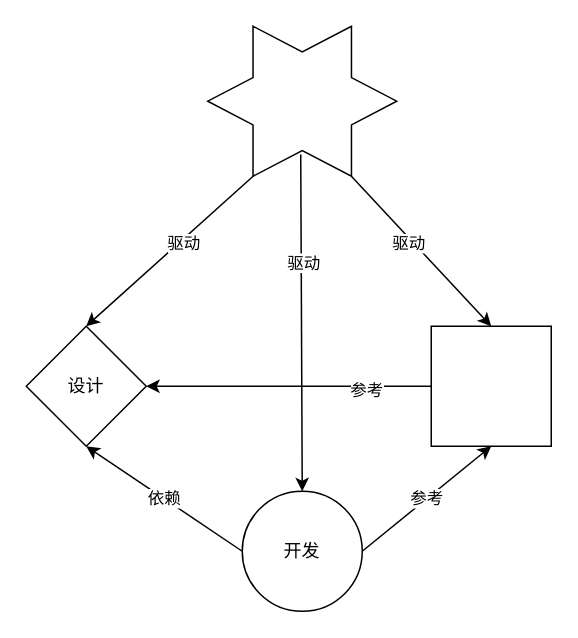
Image size: 578x638. Some labels were removed from this diagram. The shapes that lost their labels are listed below. From the top down, each one's box as (x1, y1, x2, y2) in pixels, then its label:
(206, 25, 397, 176): Story （需求文档）
(430, 325, 551, 446): 测试（用例）
